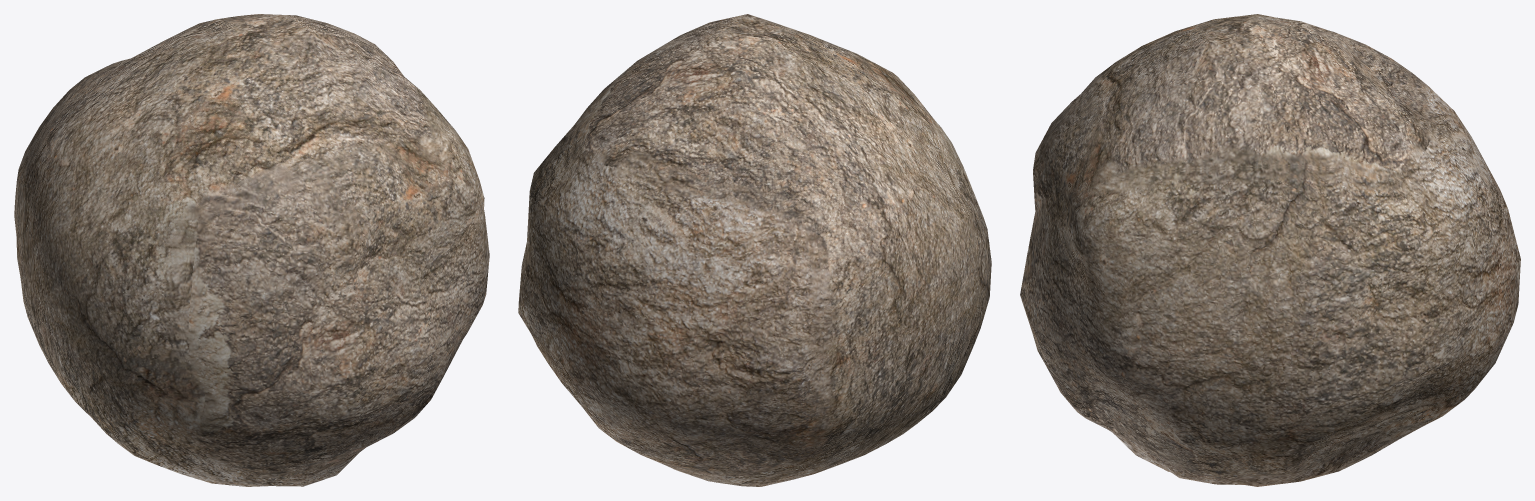
File: boulder.fbx
3 views of the same model, side by side, from view 1: azimuth 30°, elevation 25°; view 2: azimuth 150°, elevation 25°; view 3: azimuth 270°, elevation 25° (orthographic). The views are drawn at different scales.
Parts seen in each view (by area): view 1: Boulder; view 2: Boulder; view 3: Boulder.
Part boxes in pixels (box(x1,y1,x2,y2)): Boulder: box(14, 14, 489, 486); Boulder: box(518, 14, 991, 486); Boulder: box(1020, 14, 1520, 486).
Size of the model in its own units: 37.78 by 38.69 by 39.96.
